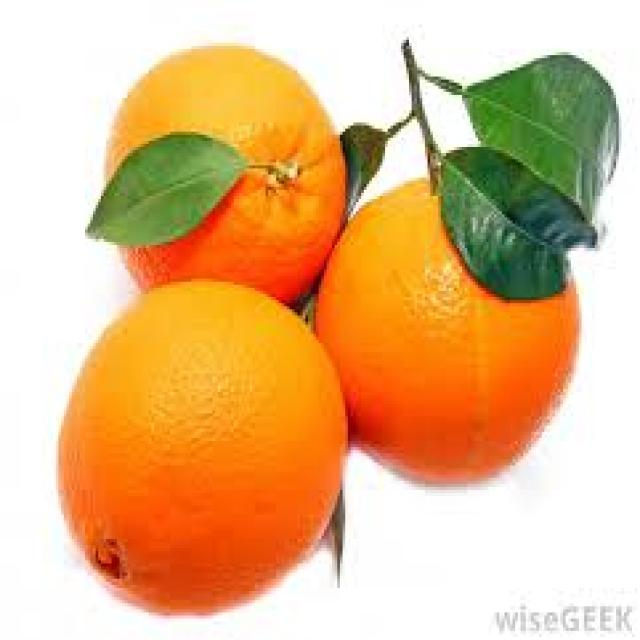Ripe: (50, 274, 353, 621), (342, 169, 581, 492), (83, 39, 350, 264)
